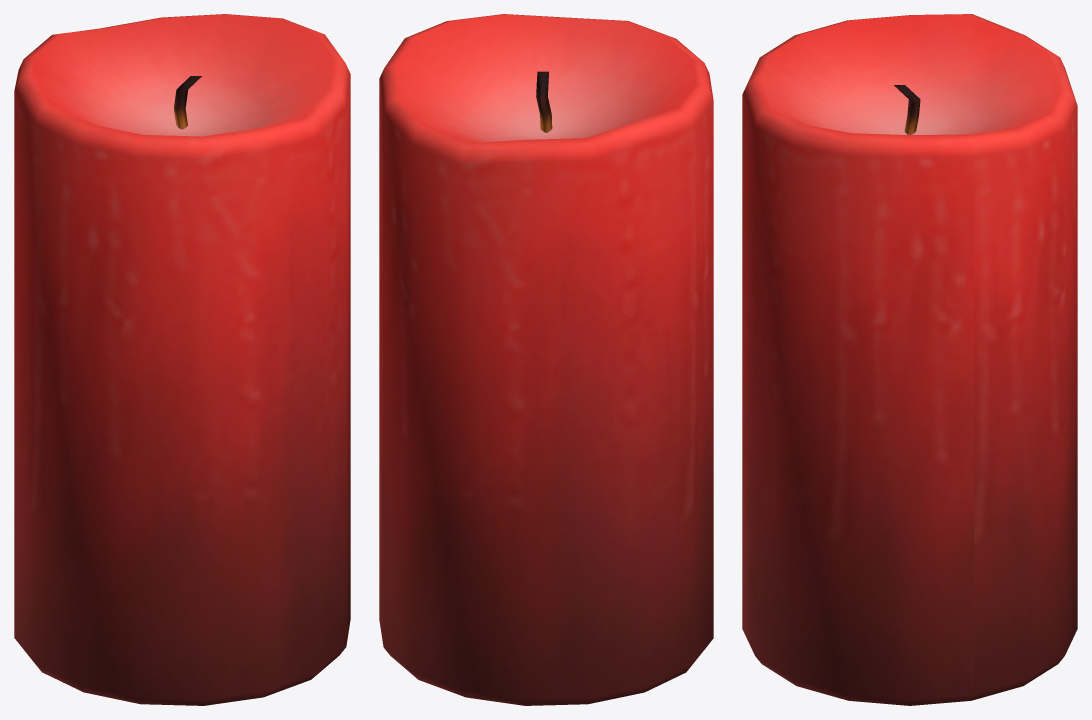
File: dub_lounge_candle_01_on_lod0.glb
3 views of the same model, side by side, from view 1: azimuth 30°, elevation 25°; view 2: azimuth 150°, elevation 25°; view 3: azimuth 270°, elevation 25° (orthographic).
Visible parts, largest first — view 1: surf0; view 2: surf0; view 3: surf0.
Boxes of the visible parts, <box> form: surf0: <box>14,14,350,705</box>; surf0: <box>379,14,713,705</box>; surf0: <box>742,14,1077,705</box>.
Bounding box in the file's own units: 3.58 × 6.67 × 3.58.
